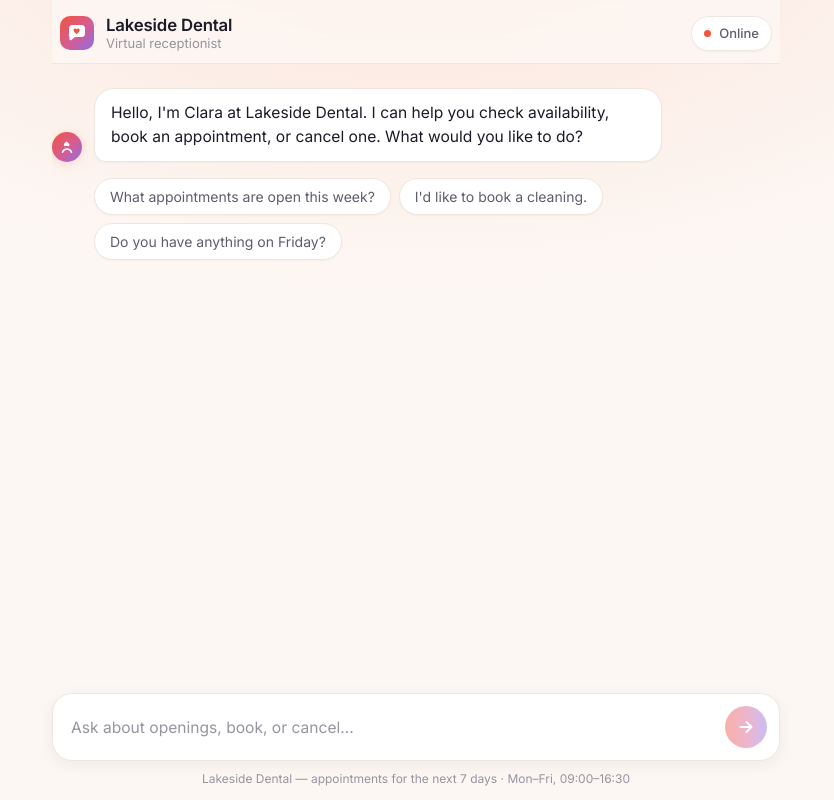
Test case: App › disables the composer while awaiting a reply
The width and height of the screenshot is (834, 800).
Type "hi" into the text box named "Message".
click(389, 728); type("hi")  # box [65,708,713,748]
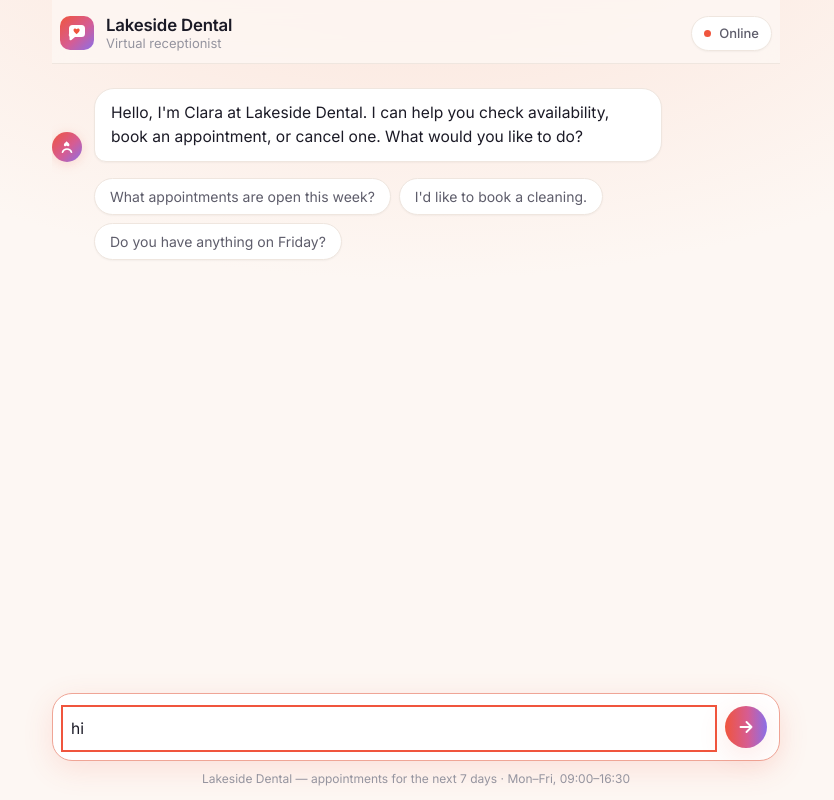
Press Enter
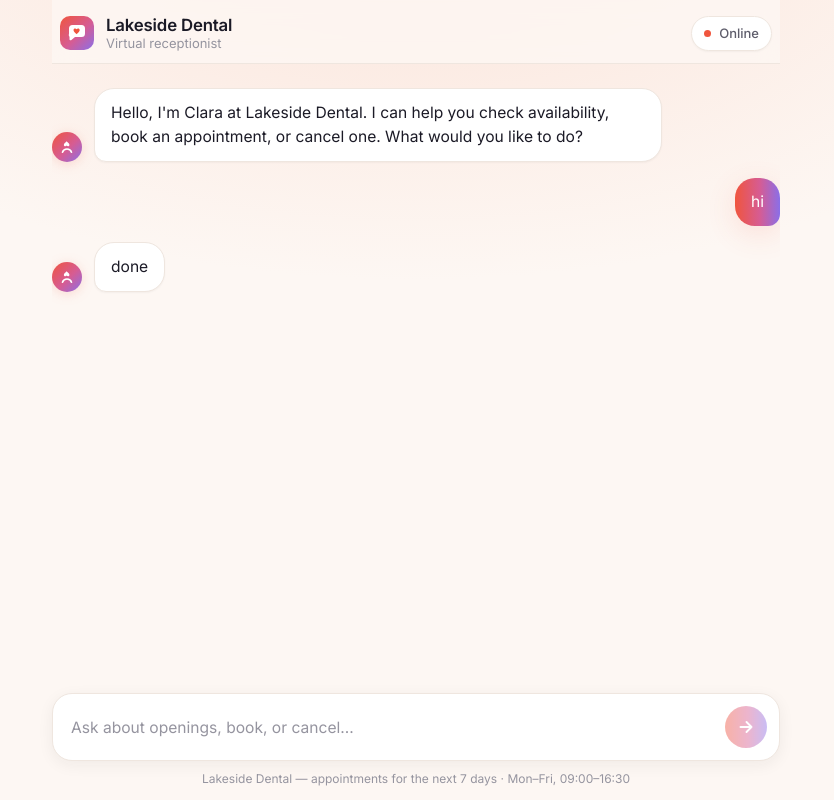
Now the button named "Send message" is disabled, box [725,706,767,748]
Now the text "done" is shown, box [111,255,148,280]
